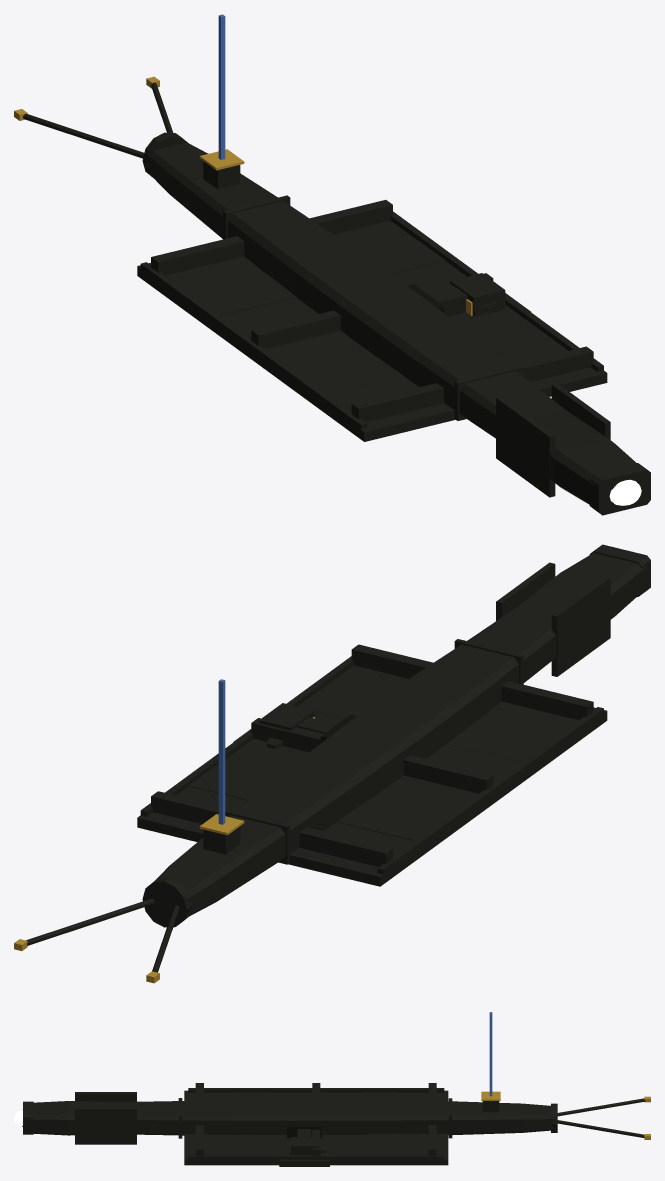
The picture shows the model from 3 angles, top to bottom: view 1: azimuth 30°, elevation 25°; view 2: azimuth 150°, elevation 25°; view 3: azimuth 270°, elevation 25°; orthographic projection. The views are drawn at different scales.
Parts seen in each view (by area): view 1: RIMWARD_HULL; view 2: RIMWARD_HULL; view 3: RIMWARD_HULL.
Part boxes in pixels (box(x1,y1,x2,y2)): RIMWARD_HULL: box(14, 14, 650, 515); RIMWARD_HULL: box(14, 544, 650, 983); RIMWARD_HULL: box(22, 1012, 650, 1166).
Size of the model in its own units: 8.6 by 7.01 by 32.82.
